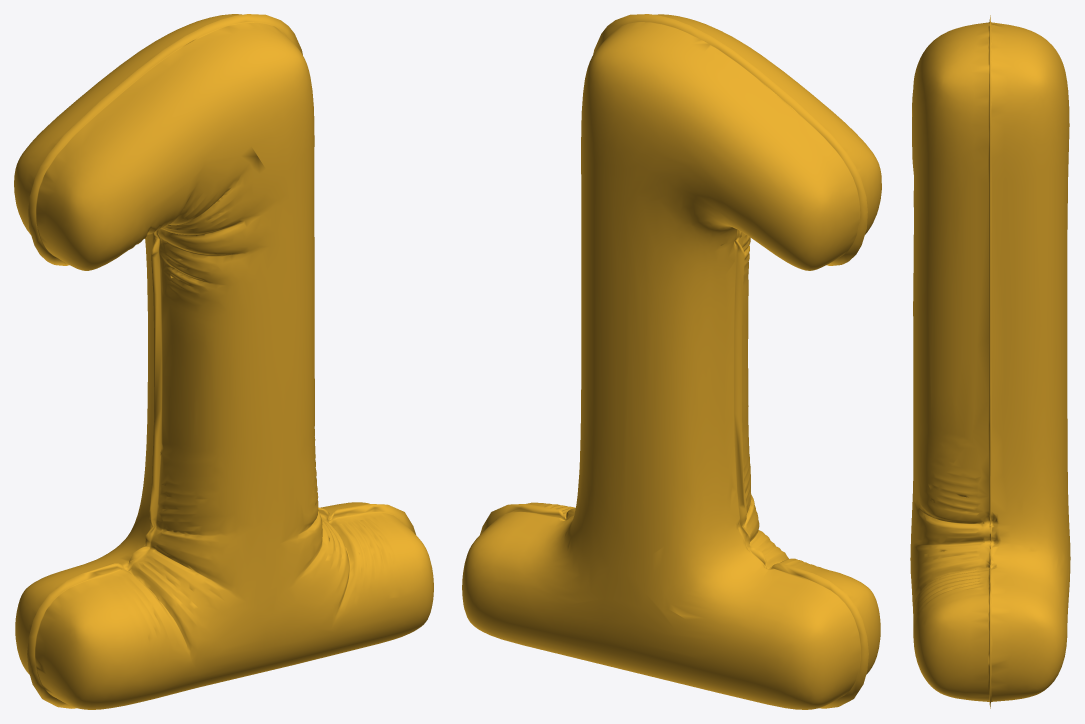
The model's file is zahlen-gold-nr1-gruppe.glb.
3 renders of one model, left to right at view 1: azimuth 30°, elevation 25°; view 2: azimuth 150°, elevation 25°; view 3: azimuth 270°, elevation 25°, orthographic. The views are drawn at different scales.
Visible parts, largest first — view 1: nr1; view 2: nr1; view 3: nr1.
Boxes of the visible parts, x1,y1,x2,y2 form: nr1: (14, 14, 433, 709); nr1: (462, 14, 881, 709); nr1: (910, 15, 1070, 708).
Bounding box in the file's own units: 0.3892 × 0.6214 × 0.1468.
